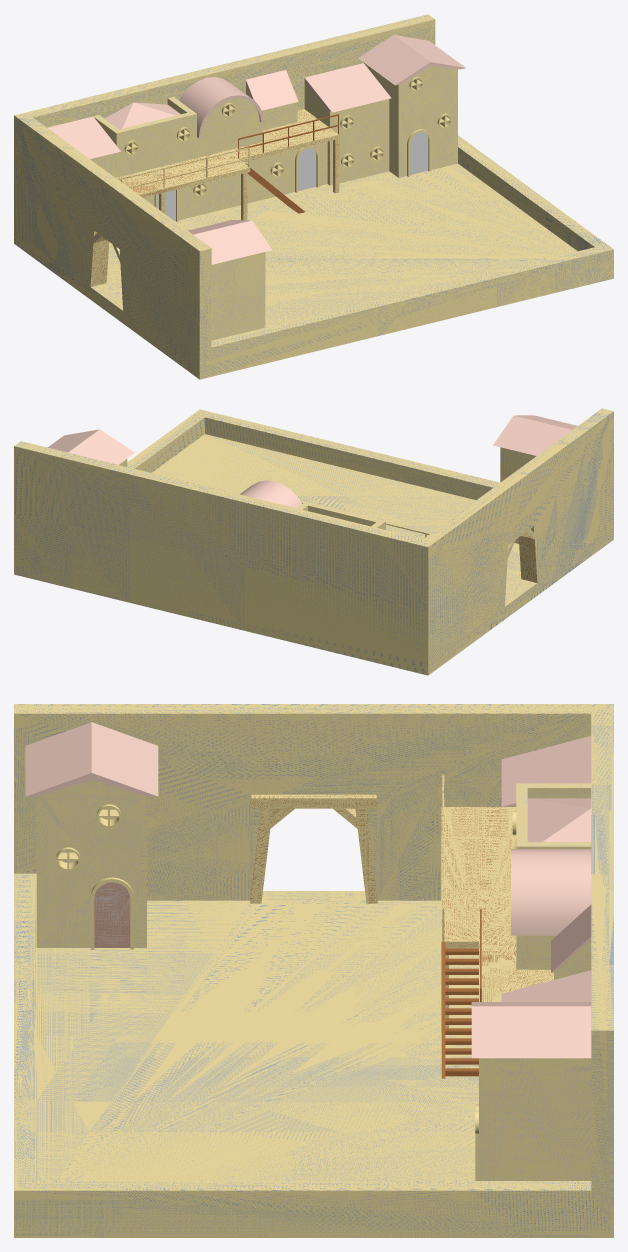
The model's file is Aldea_Mina.fbx.
3 renders of one model, top to bottom at view 1: azimuth 30°, elevation 25°; view 2: azimuth 150°, elevation 25°; view 3: azimuth 270°, elevation 25°, orthographic. The views are drawn at different scales.
Visible parts, largest first — view 1: Paredes, Suelo, Edificio 13, Edificio 25, Barandilla y pilares, Edificio 93, Tejado 4, Tejado 2, group_13, Tejado 3, Tejado 5, Tejado 6 (+6 smaller); view 2: Paredes, Suelo, group_13, Tejado 4, Tejado 3, Edificio 25, Puerta mina, Edificio 93; view 3: Suelo, Paredes, Edificio 93, Edificio 13, Barandilla y pilares, group_13, Tejado 4, Tejado 3, Puerta mina, Tejado 5, Edificio 25, Tejado 1 (+5 smaller).
Part boxes in pixels (left/top/right/bottom): Paredes: left=14, top=14, right=613, bottom=379; Suelo: left=91, top=163, right=577, bottom=327; Edificio 13: left=143, top=63, right=457, bottom=220; Edificio 25: left=90, top=97, right=262, bottom=177; Barandilla y pilares: left=116, top=109, right=339, bottom=220; Edificio 93: left=211, top=252, right=265, bottom=340; Tejado 4: left=358, top=35, right=465, bottom=85; Tejado 2: left=304, top=63, right=391, bottom=112; group_13: left=188, top=220, right=272, bottom=264; Tejado 3: left=179, top=77, right=263, bottom=137; Tejado 5: left=47, top=116, right=120, bottom=158; Tejado 6: left=246, top=70, right=298, bottom=110; Paredes: left=14, top=408, right=613, bottom=675; Suelo: left=152, top=434, right=536, bottom=606; group_13: left=493, top=415, right=577, bottom=455; Tejado 4: left=48, top=429, right=134, bottom=464; Tejado 3: left=240, top=480, right=301, bottom=508; Edificio 25: left=297, top=501, right=385, bottom=529; Puerta mina: left=508, top=526, right=537, bottom=582; Edificio 93: left=500, top=447, right=536, bottom=543; Suelo: left=36, top=891, right=478, bottom=1180; Paredes: left=14, top=704, right=613, bottom=1237; Edificio 93: left=36, top=779, right=146, bottom=947; Edificio 13: left=479, top=1058, right=591, bottom=1180; Barandilla y pilares: left=441, top=774, right=553, bottom=1032; group_13: left=25, top=722, right=158, bottom=796; Tejado 4: left=471, top=1002, right=591, bottom=1058; Tejado 3: left=511, top=849, right=591, bottom=935; Puerta mina: left=250, top=794, right=377, bottom=903; Tejado 5: left=501, top=736, right=591, bottom=806; Edificio 25: left=516, top=783, right=591, bottom=969; Tejado 1: left=527, top=798, right=591, bottom=841.
Bounding box in the file's own units: 2060 × 610 × 1600.
